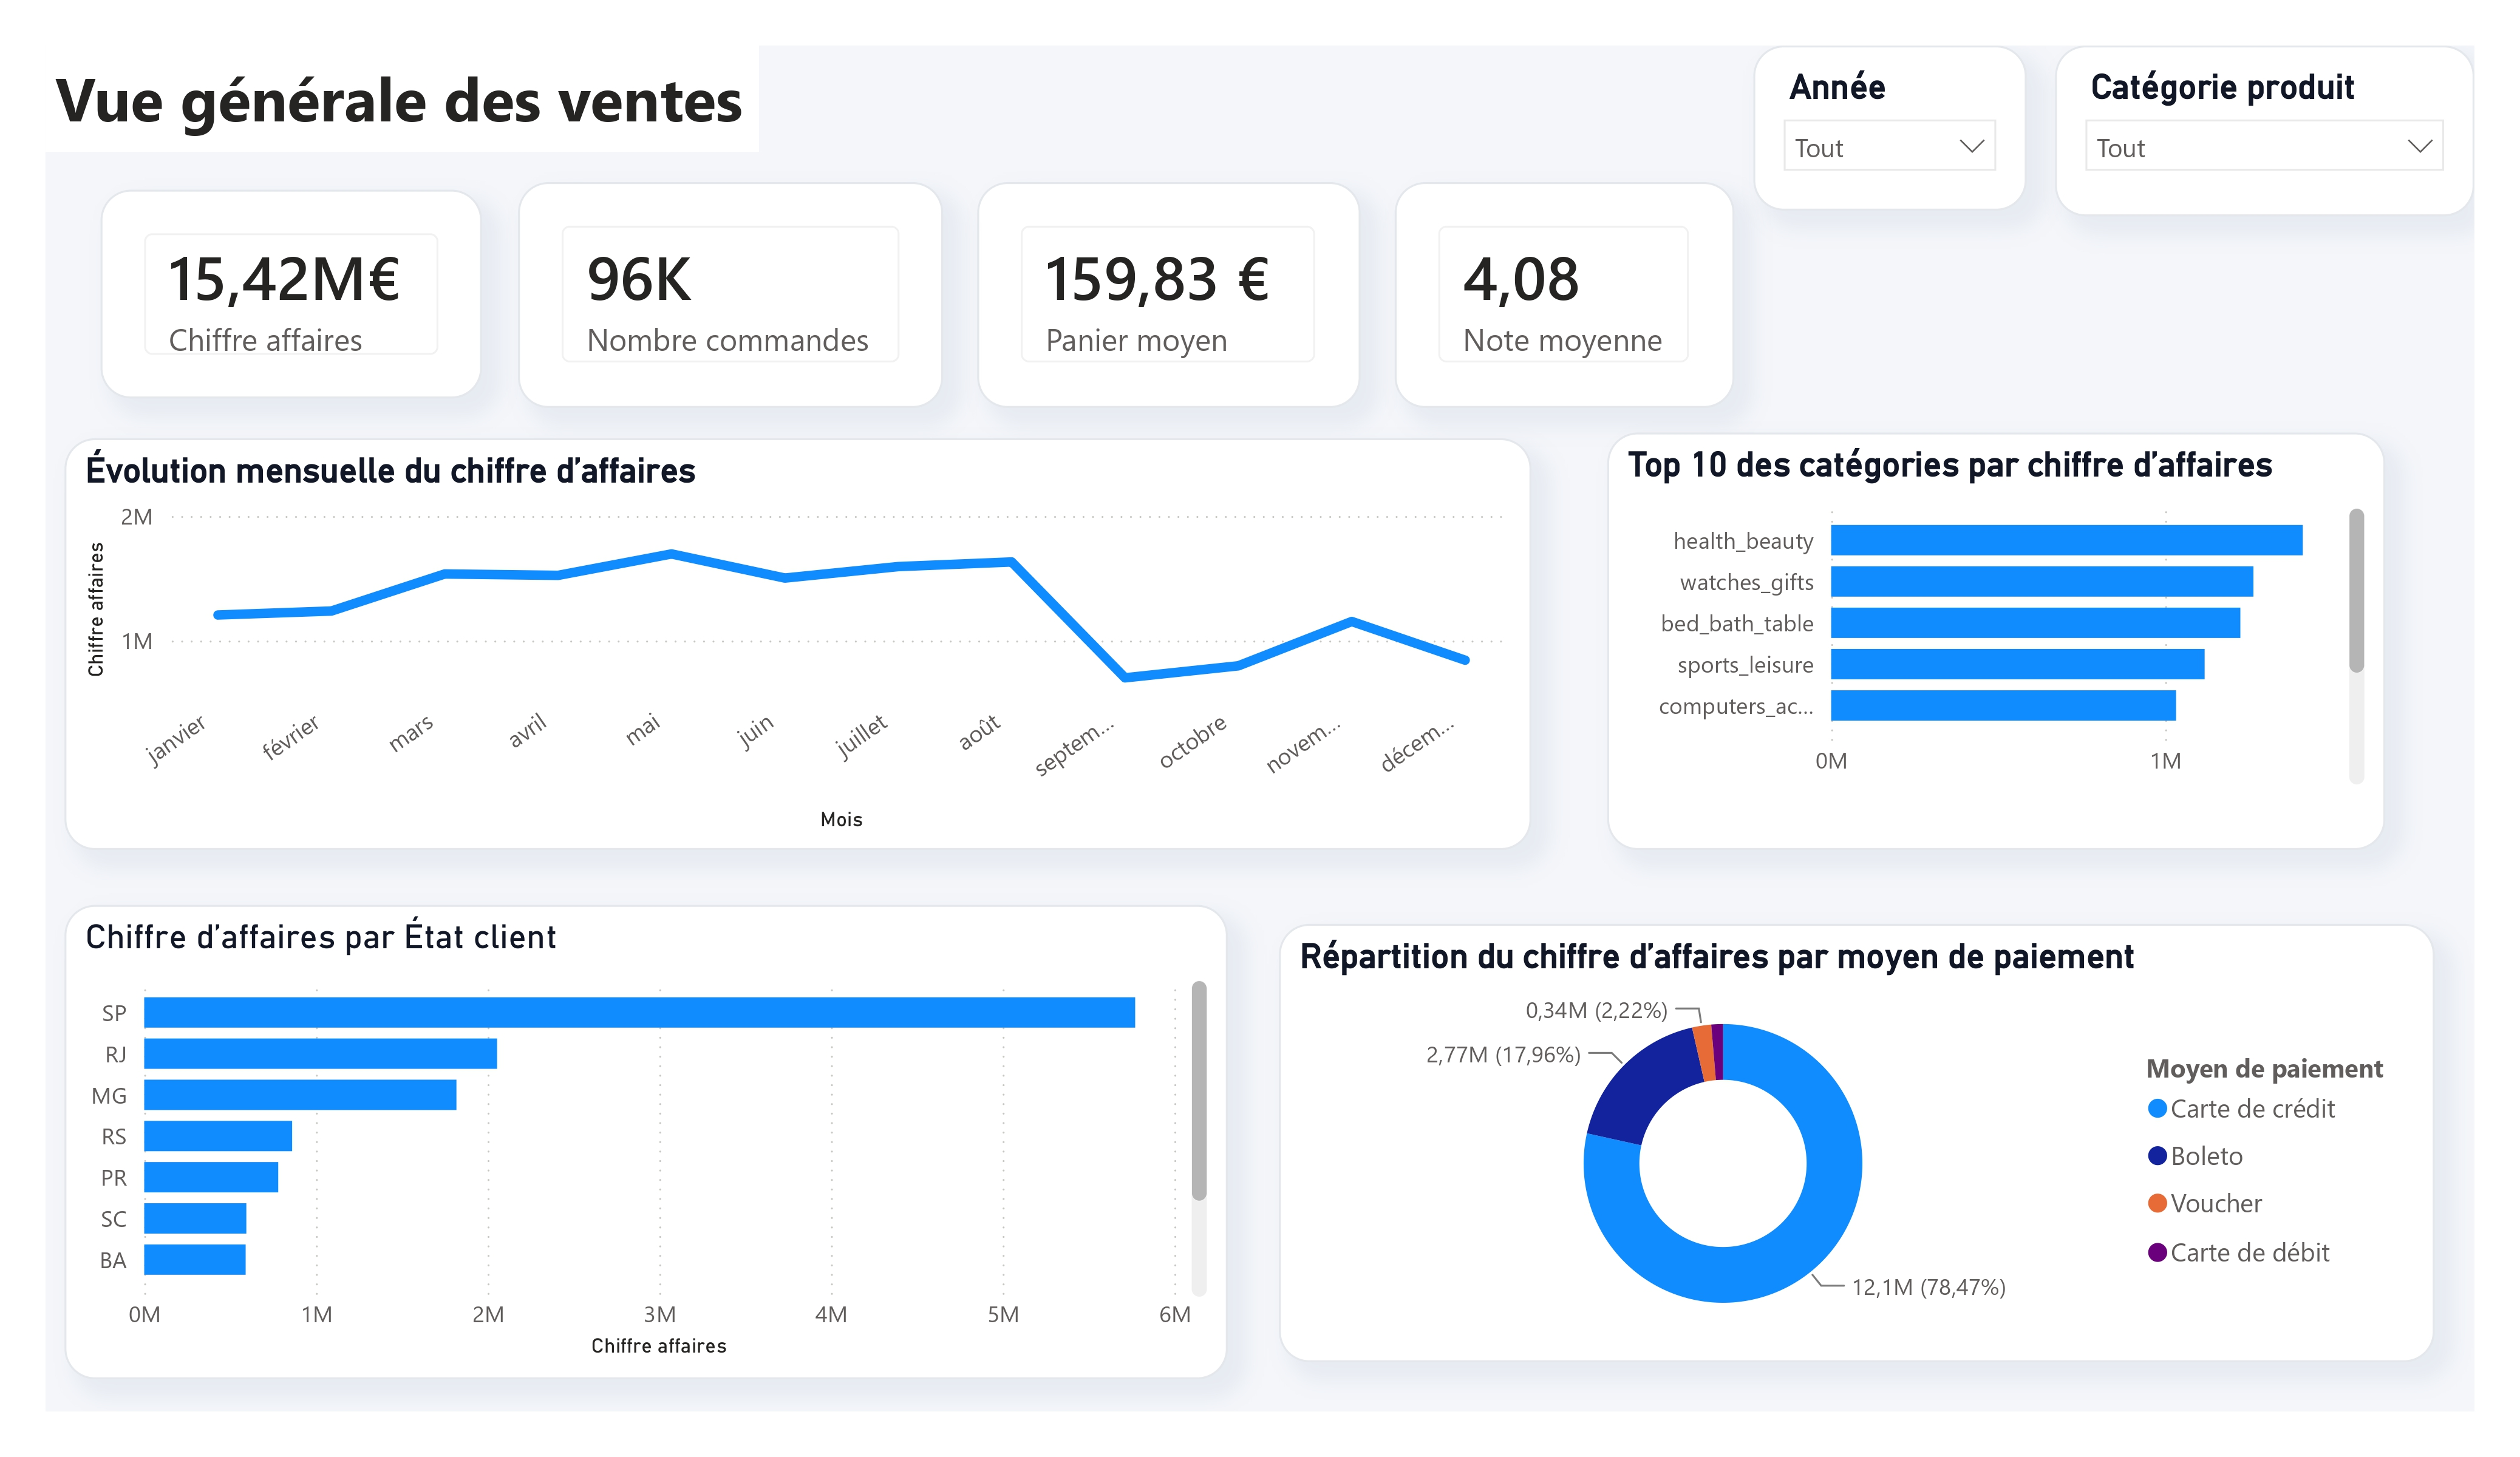

The dashboard page shown, as its layout file describes it:
{"tool":"powerbi","page":{"name":"Vue générale des ventes","canvas":[1280,720],"ordinal":0},"visuals":[{"type":"cardVisual","fields":{"Data":["public fact_sales.Note moyenne"]},"box":[711.4,72.1,178.6,118.6],"z":0},{"type":"cardVisual","fields":{"Data":["public fact_sales.Chiffre affaires"]},"box":[28.6,76.4,201.4,110],"z":1000},{"type":"cardVisual","fields":{"Data":["public fact_sales.Panier moyen"]},"box":[491.4,72.1,201.4,118.6],"z":2000},{"type":"cardVisual","fields":{"Data":["public fact_sales.Nombre commandes"]},"box":[248.6,72.1,224.3,118.6],"z":3000},{"type":"lineChart","title":"Évolution mensuelle du chiffre d’affaires","fields":{"Category":["public dim_date.full_date.Variation.Hiérarchie de dates.Année","public dim_date.full_date.Variation.Hiérarchie de dates.Trimestre","public dim_date.full_date.Variation.Hiérarchie de dates.Mois","public dim_date.full_date.Variation.Hiérarchie de dates.Jour"],"Y":["public fact_sales.Chiffre affaires"]},"box":[10,207.1,772.9,217.1],"z":4000},{"type":"clusteredBarChart","title":"Top 10 des catégories par chiffre d’affaires","fields":{"Y":["public fact_sales.Chiffre affaires"],"Category":["public dim_product.product_category"]},"box":[822.9,204.3,410,220],"z":5000},{"type":"clusteredBarChart","title":"Chiffre d’affaires par État client","fields":{"Y":["public fact_sales.Chiffre affaires"],"Category":["public dim_customer.customer_state"]},"box":[10,452.9,612.9,250],"z":6000},{"type":"slicer","fields":{"Values":["public dim_date.year"]},"box":[900,0,144.3,87.1],"z":7000},{"type":"slicer","title":"Catégorie produit","fields":{"Values":["public dim_product.product_category"]},"box":[1058.6,0,221.4,90],"z":8000},{"type":"textbox","box":[0,0,375.7,55.7],"z":9000},{"type":"donutChart","title":"Répartition du chiffre d’affaires par moyen de paiement","fields":{"Category":["public fact_sales.Moyen de paiement"],"Y":["public fact_sales.Chiffre affaires"]},"box":[650,462.9,608.6,231.4],"z":10000}]}

Visuals, with their boxes on the page's 1280x720 design canvas (x1, y1, x2, y2). These are canvas units, not pixel positions in the 2520x1457 screenshot, which may show the page scaled, cropped or inside an application window:
cardVisual - public fact_sales.Note moyenne: {"left": 711, "top": 72, "right": 890, "bottom": 191}
cardVisual - public fact_sales.Chiffre affaires: {"left": 29, "top": 76, "right": 230, "bottom": 186}
cardVisual - public fact_sales.Panier moyen: {"left": 491, "top": 72, "right": 693, "bottom": 191}
cardVisual - public fact_sales.Nombre commandes: {"left": 249, "top": 72, "right": 473, "bottom": 191}
"Évolution mensuelle du chiffre d’affaires" lineChart: {"left": 10, "top": 207, "right": 783, "bottom": 424}
"Top 10 des catégories par chiffre d’affaires" clusteredBarChart: {"left": 823, "top": 204, "right": 1233, "bottom": 424}
"Chiffre d’affaires par État client" clusteredBarChart: {"left": 10, "top": 453, "right": 623, "bottom": 703}
slicer - public dim_date.year: {"left": 900, "top": 0, "right": 1044, "bottom": 87}
"Catégorie produit" slicer: {"left": 1059, "top": 0, "right": 1280, "bottom": 90}
textbox: {"left": 0, "top": 0, "right": 376, "bottom": 56}
"Répartition du chiffre d’affaires par moyen de paiement" donutChart: {"left": 650, "top": 463, "right": 1259, "bottom": 694}
